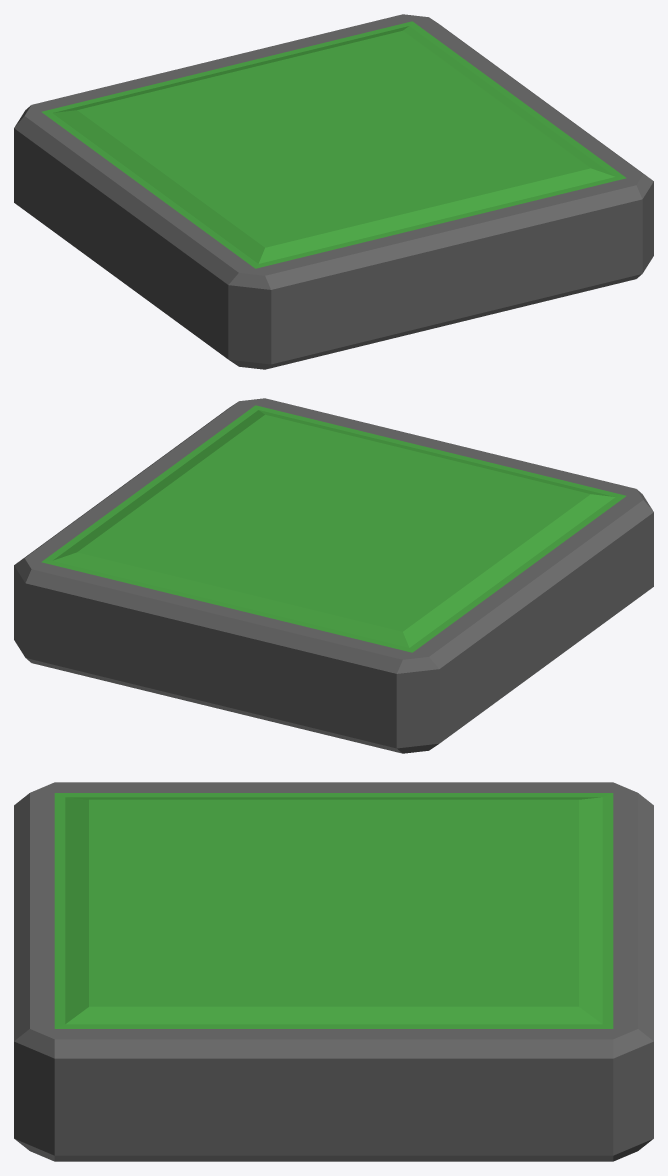
File: platform.fbx
3 views of the same model, one above another, from view 1: azimuth 30°, elevation 25°; view 2: azimuth 150°, elevation 25°; view 3: azimuth 270°, elevation 25° (orthographic). The views are drawn at different scales.
Parts seen in each view (by area): view 1: Cube; view 2: Cube; view 3: Cube.
Part boxes in pixels (x1,y1,x2,y2): Cube: (14,14,653,369); Cube: (14,398,653,753); Cube: (14,782,653,1161).
Size of the model in its own units: 200 by 44.77 by 200.
